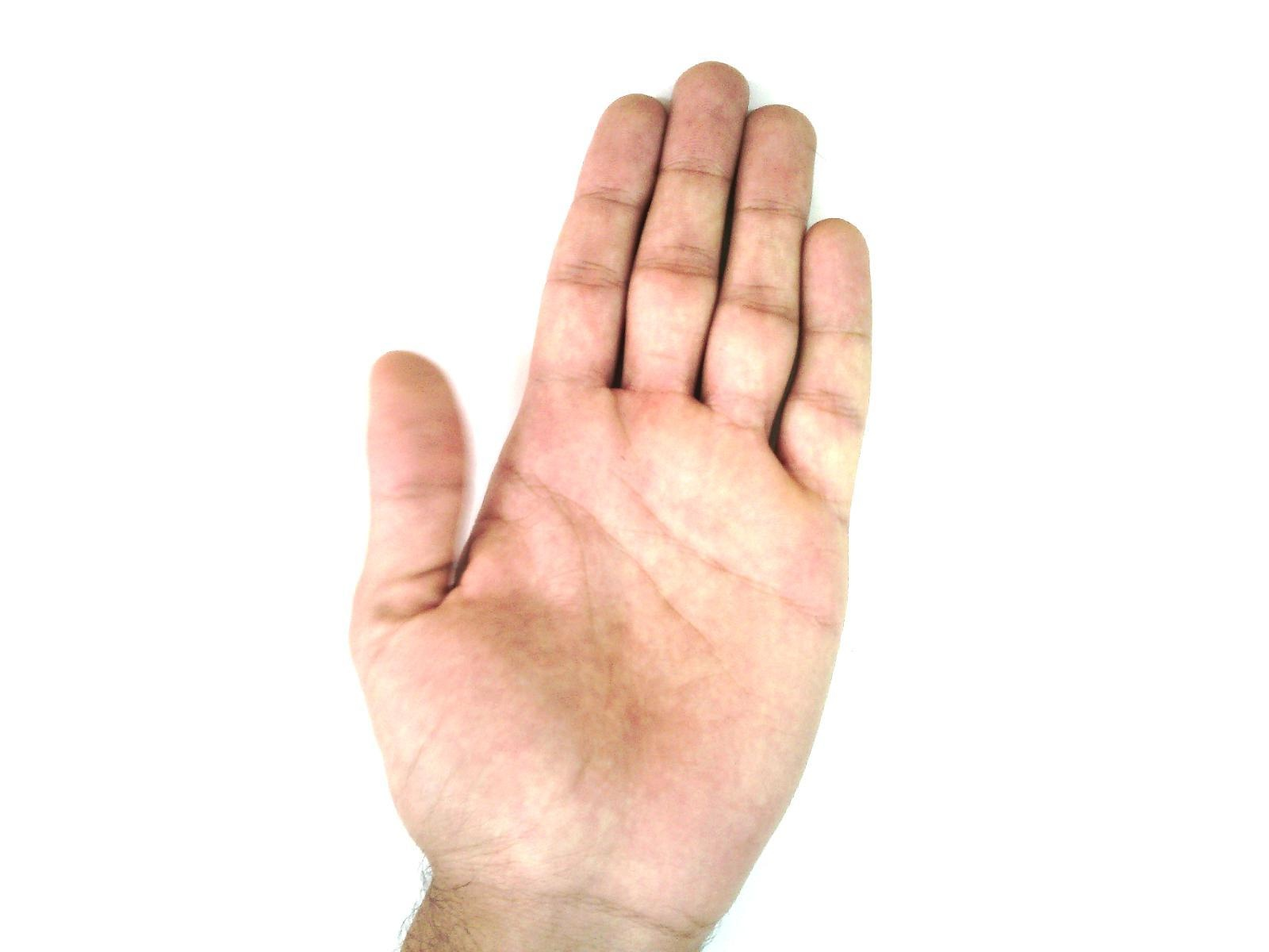open_palm: (347, 60, 877, 940)
